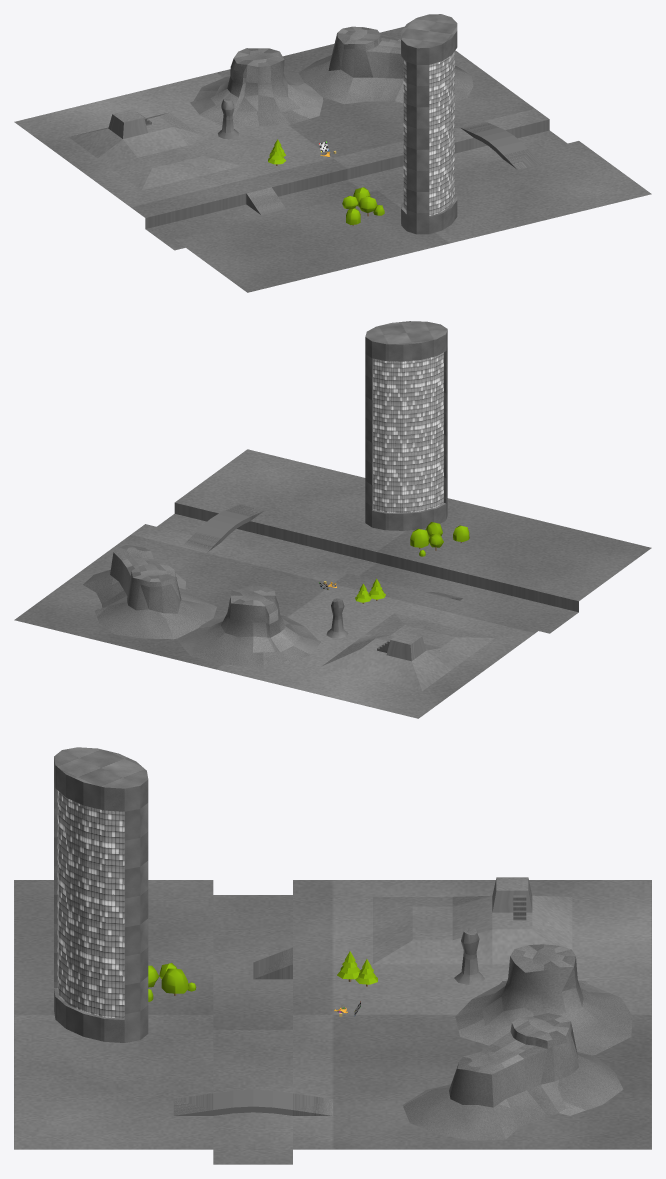
3 renders of one model, top to bottom at view 1: azimuth 30°, elevation 25°; view 2: azimuth 150°, elevation 25°; view 3: azimuth 270°, elevation 25°, orthographic. The views are drawn at different scales.
Visible parts, largest first — view 1: ground_nocast_collideMesh, building_collideCylinder, mesa_collideMesh, table_collideMesh, spire_collideMesh; view 2: ground_nocast_collideMesh, building_collideCylinder, table_collideMesh, mesa_collideMesh; view 3: ground_nocast_collideMesh, building_collideCylinder, table_collideMesh, mesa_collideMesh, spire_collideMesh.
Boxes of the visible parts, x1,y1,x2,y2 form: ground_nocast_collideMesh: (14,26,651,292); building_collideCylinder: (401,14,457,234); mesa_collideMesh: (190,48,323,126); table_collideMesh: (299,26,473,104); spire_collideMesh: (218,99,238,139); ground_nocast_collideMesh: (14,449,651,718); building_collideCylinder: (365,321,447,530); table_collideMesh: (83,545,216,639); mesa_collideMesh: (176,585,320,667); ground_nocast_collideMesh: (14,877,651,1164); building_collideCylinder: (54,747,148,1042); table_collideMesh: (402,1013,623,1140); mesa_collideMesh: (455,944,632,1055); spire_collideMesh: (454,928,484,984).
Bounding box in the file's own units: 100 × 46.61 × 100.
Materials: 17 (3 with a texture image).
